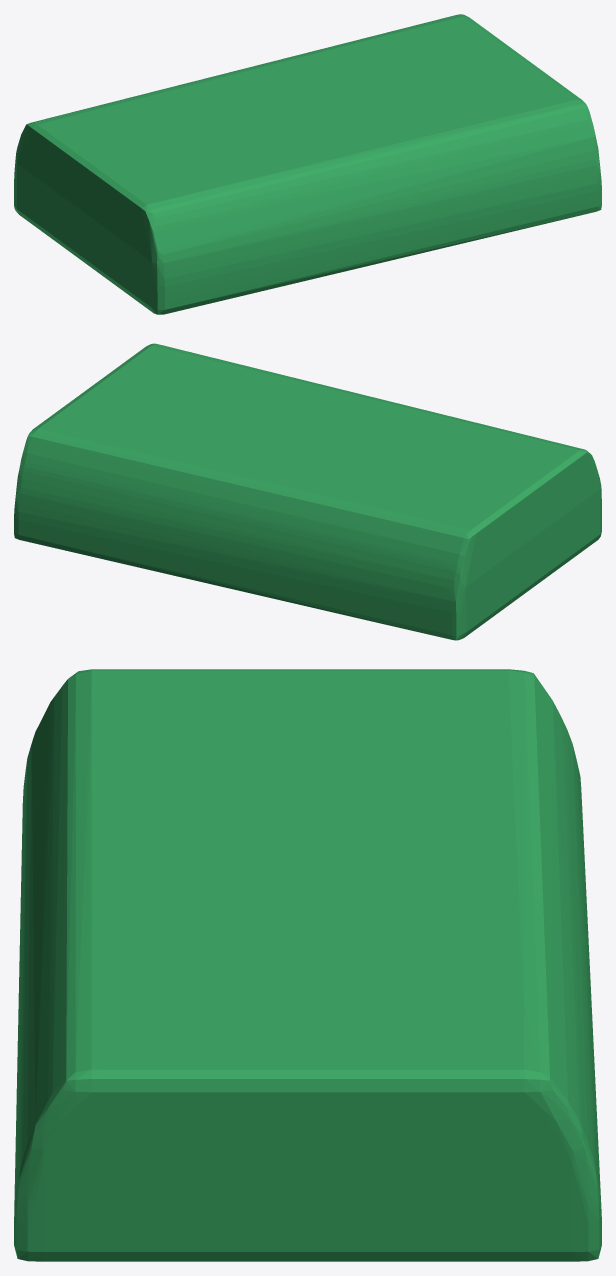
File: right_elbow_link_part_10.obj
3 views of the same model, one above another, from view 1: azimuth 30°, elevation 25°; view 2: azimuth 150°, elevation 25°; view 3: azimuth 270°, elevation 25° (orthographic). The views are drawn at different scales.
Size of the model in its own units: 0.0905 by 0.0195 by 0.0544.
